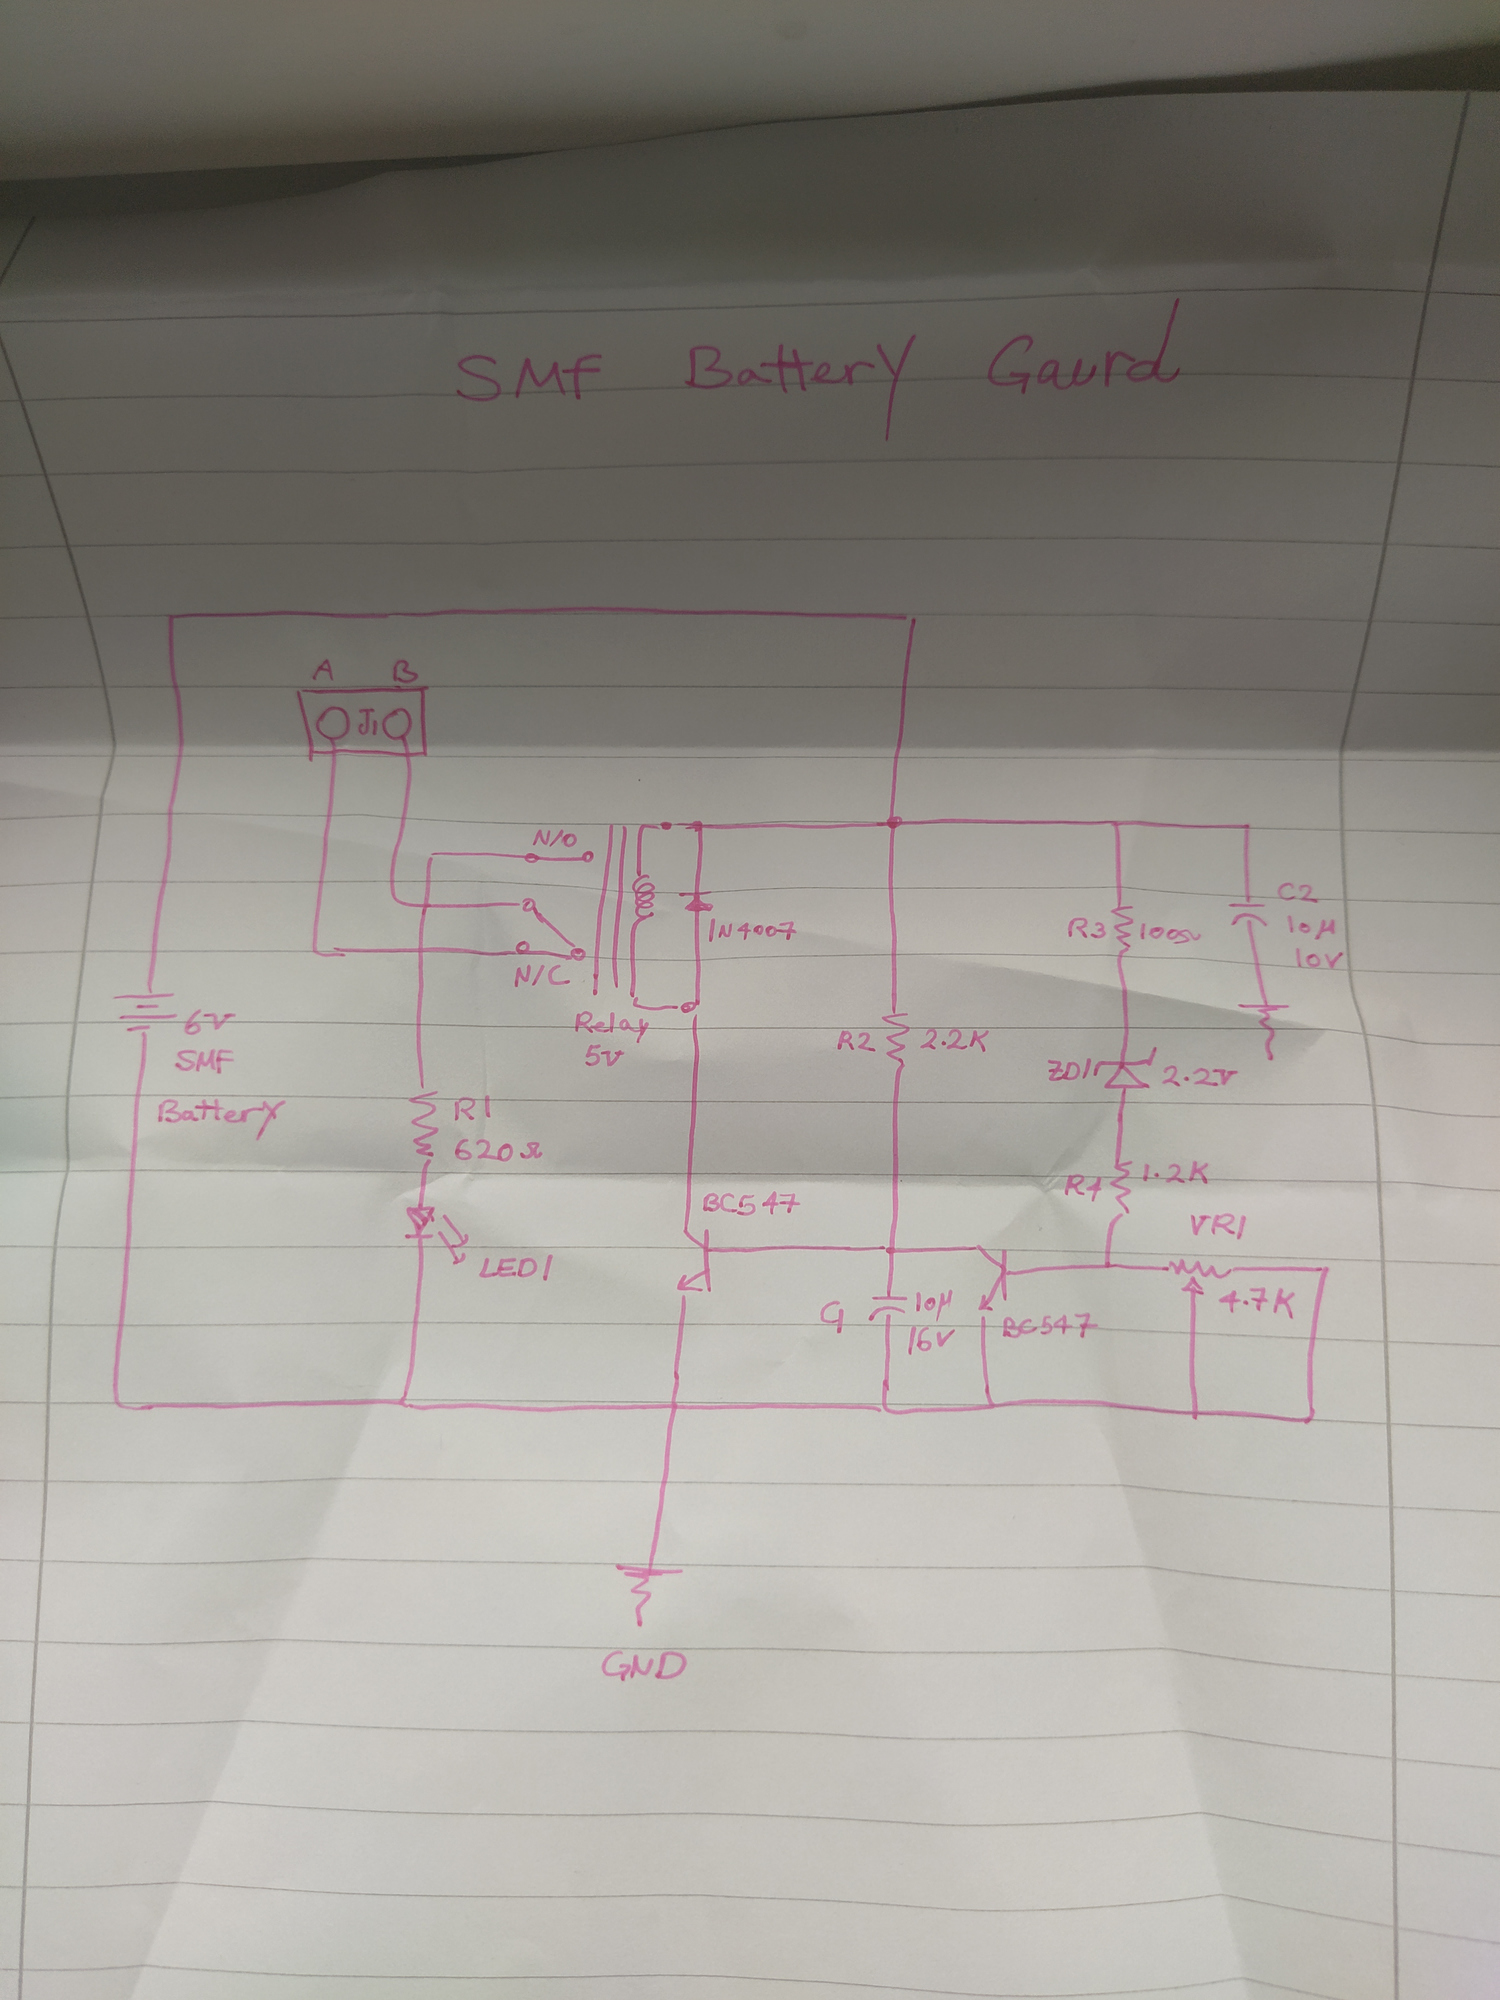capacitor.unpolarized: (1226, 898, 1272, 931), (863, 1291, 911, 1323)
crossover: (411, 940, 432, 959), (416, 896, 436, 913)
diode: (1092, 1046, 1160, 1091), (674, 887, 718, 917)
diode.light_emitting: (403, 1203, 473, 1266)
gnd: (611, 1559, 685, 1630), (1235, 1000, 1294, 1061)
junction: (107, 1394, 147, 1416), (310, 939, 351, 959), (674, 997, 703, 1022), (874, 1398, 898, 1417), (684, 817, 707, 835), (1316, 1261, 1336, 1280), (884, 813, 904, 831), (392, 1394, 413, 1413), (1186, 1405, 1205, 1424), (388, 888, 407, 907), (665, 1398, 685, 1416), (878, 1243, 900, 1258), (1301, 1409, 1319, 1428), (983, 1398, 1001, 1416), (1098, 1258, 1117, 1272), (900, 613, 920, 625), (162, 609, 180, 624), (425, 847, 441, 861), (1108, 817, 1123, 830), (1240, 820, 1253, 831)
relay: (511, 820, 674, 1016)
resistor: (405, 1082, 443, 1164), (879, 1006, 912, 1072), (1105, 1157, 1134, 1224), (1108, 902, 1136, 959)
resistor.adjustable: (1161, 1257, 1238, 1298)
terminal: (315, 704, 351, 742), (380, 706, 414, 742)
text: (451, 294, 1188, 444), (156, 1096, 288, 1142), (597, 1647, 689, 1685), (1001, 1310, 1100, 1342), (1216, 1283, 1298, 1321), (701, 1187, 804, 1217), (707, 915, 800, 945), (574, 1009, 651, 1044), (452, 1135, 545, 1164), (476, 1254, 559, 1283), (1160, 1063, 1240, 1090), (1188, 1209, 1249, 1243), (919, 1027, 991, 1054), (1141, 1159, 1213, 1186), (172, 1046, 236, 1076), (1138, 920, 1204, 946), (183, 1006, 238, 1038), (904, 1324, 956, 1357), (1286, 910, 1338, 942), (514, 962, 572, 989), (912, 1287, 953, 1321), (1062, 1172, 1105, 1205), (1294, 945, 1346, 972), (452, 1091, 495, 1123), (1045, 1057, 1093, 1082), (1275, 880, 1320, 906), (1065, 915, 1108, 942), (818, 1298, 848, 1335), (529, 827, 578, 849), (583, 1043, 626, 1068), (837, 1028, 878, 1054), (391, 657, 421, 687), (355, 706, 380, 739), (309, 657, 339, 683)
transistor: (673, 1227, 717, 1302), (971, 1239, 1012, 1320)
voltage.dc: (110, 984, 180, 1039)
